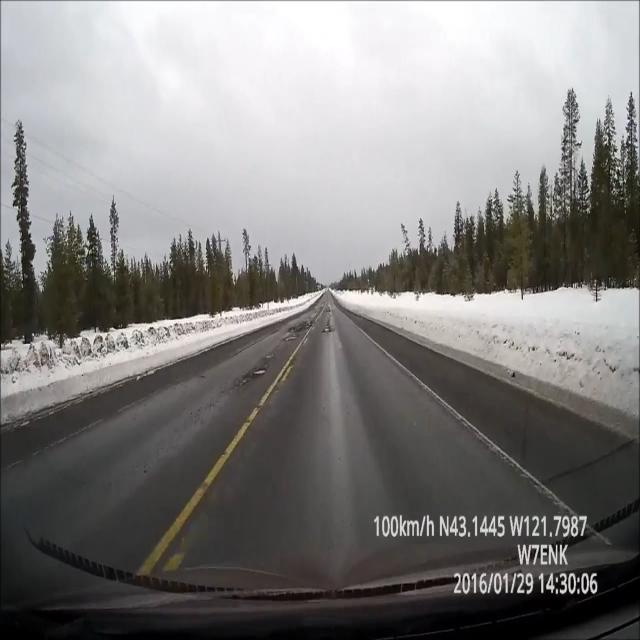Pothole: (278, 316, 314, 342), (242, 364, 269, 390), (320, 324, 334, 335)
